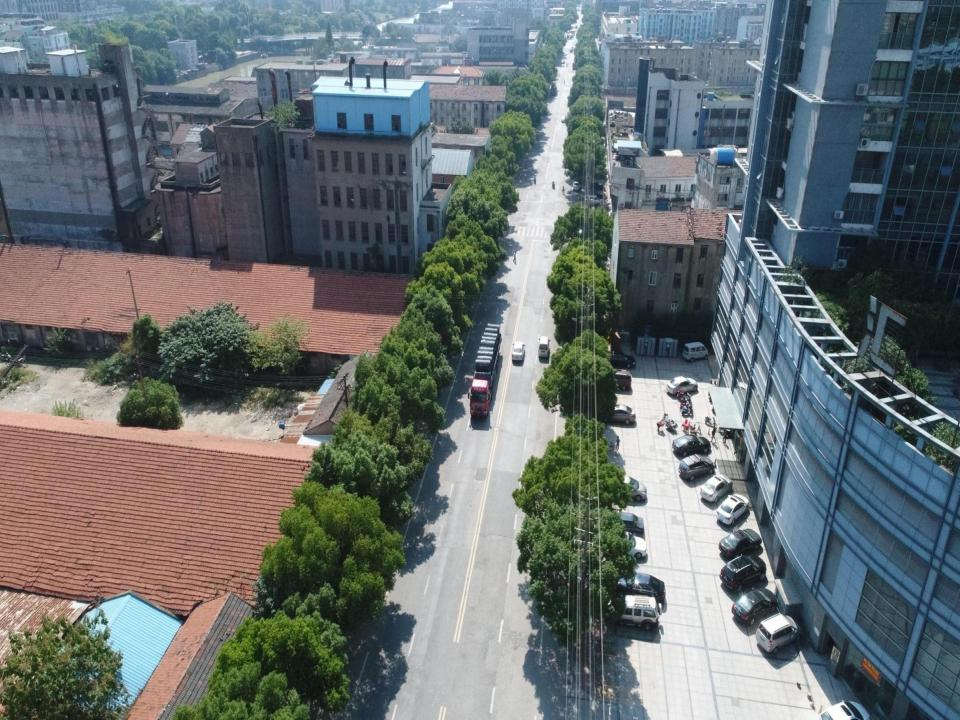car: (606, 570, 666, 608), (606, 593, 662, 631), (718, 552, 766, 592), (730, 586, 778, 625), (718, 528, 762, 560), (602, 531, 648, 558), (603, 474, 647, 501), (714, 493, 749, 525), (601, 511, 645, 536), (678, 452, 715, 481), (699, 473, 733, 503), (817, 701, 871, 719), (672, 433, 712, 457), (600, 404, 636, 425), (602, 368, 632, 392), (602, 349, 636, 369), (665, 376, 698, 395), (512, 340, 525, 360), (572, 180, 581, 190), (560, 113, 568, 121)
truck: (464, 324, 503, 416)
van: (756, 613, 804, 653), (682, 341, 708, 362), (537, 335, 550, 357), (583, 194, 600, 206)
